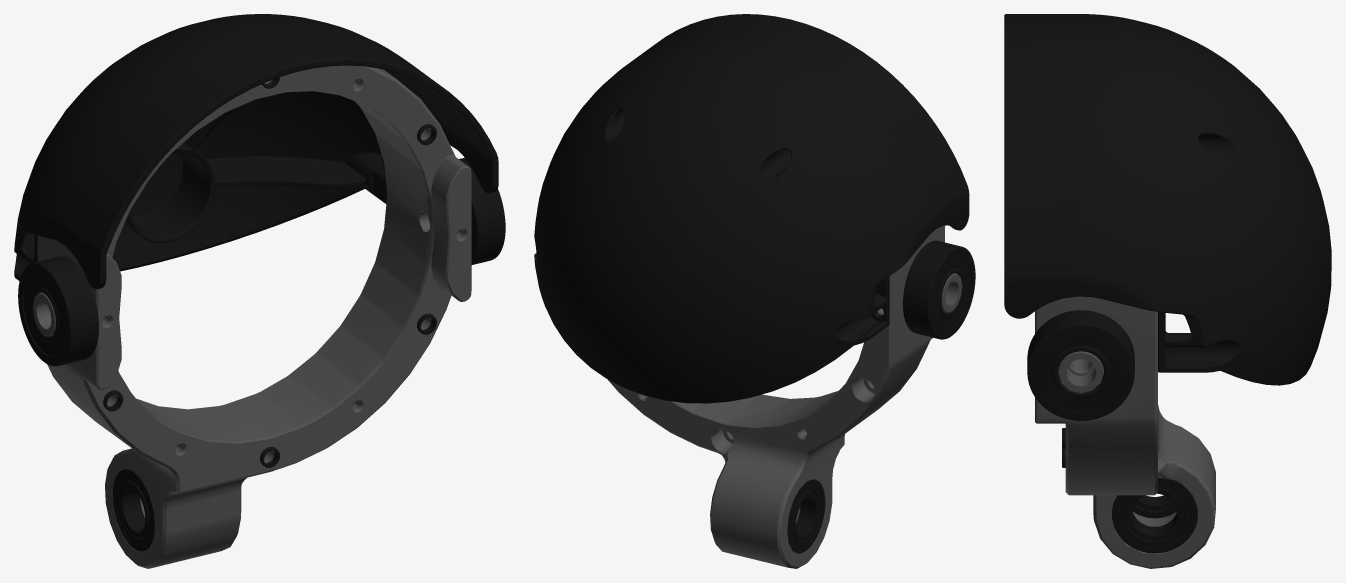
File: link_left_hip_y.glb
The picture shows the model from 3 angles, left to right: view 1: azimuth 30°, elevation 25°; view 2: azimuth 150°, elevation 25°; view 3: azimuth 270°, elevation 25°; orthographic projection. The views are drawn at different scales.
Visible parts, largest first — view 1: link_left_hip_y; view 2: link_left_hip_y; view 3: link_left_hip_y.
Boxes of the visible parts, x1,y1,x2,y2 form: link_left_hip_y: [14, 14, 505, 568]; link_left_hip_y: [534, 14, 975, 568]; link_left_hip_y: [1004, 14, 1331, 568].
Size of the model in its own units: 0.166 by 0.1937 by 0.1066.
1 material, 1 textured.
